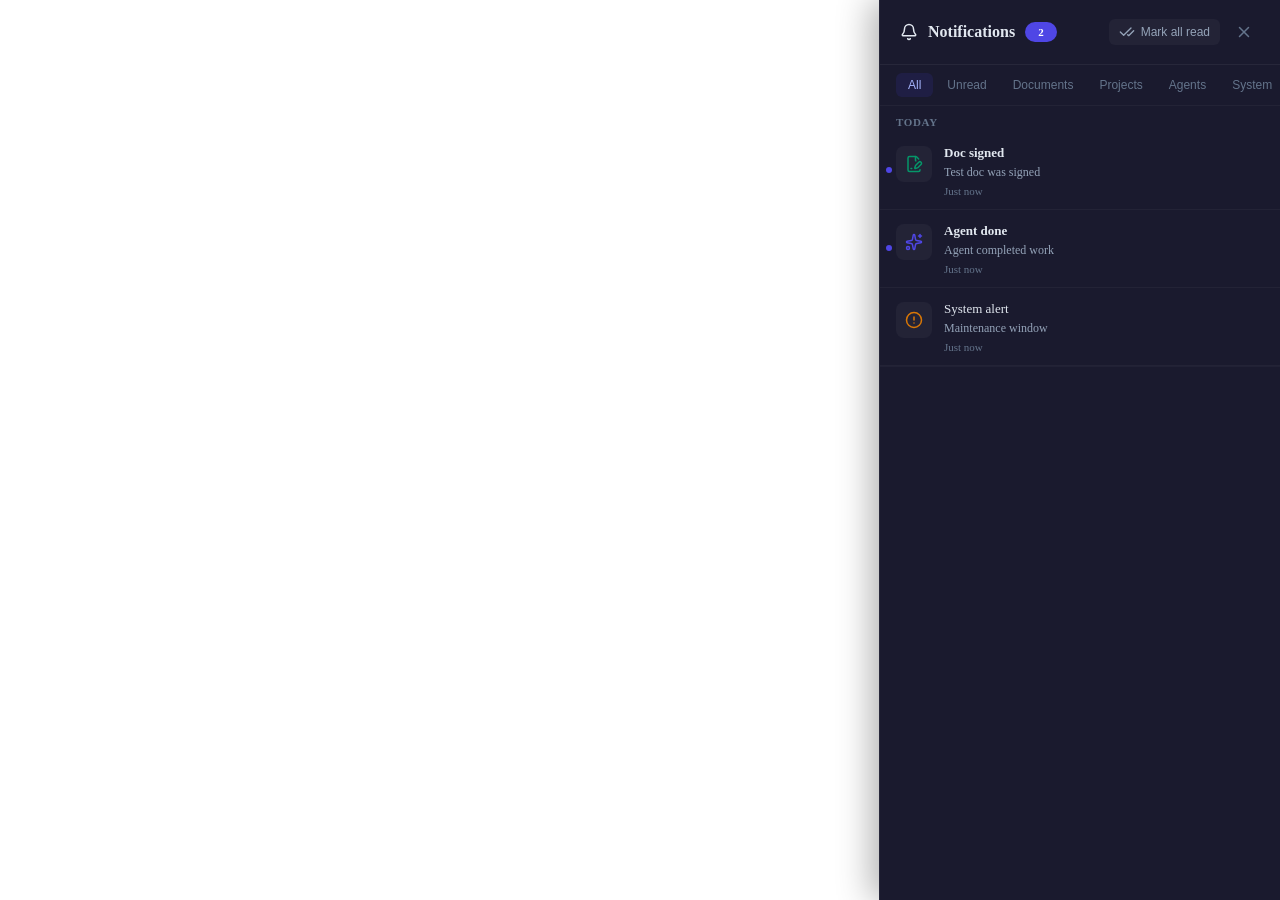
NotificationCenter › filters by Documents tab
Click the tab "Documents": x=1043, y=85 [1001,73,1085,97]
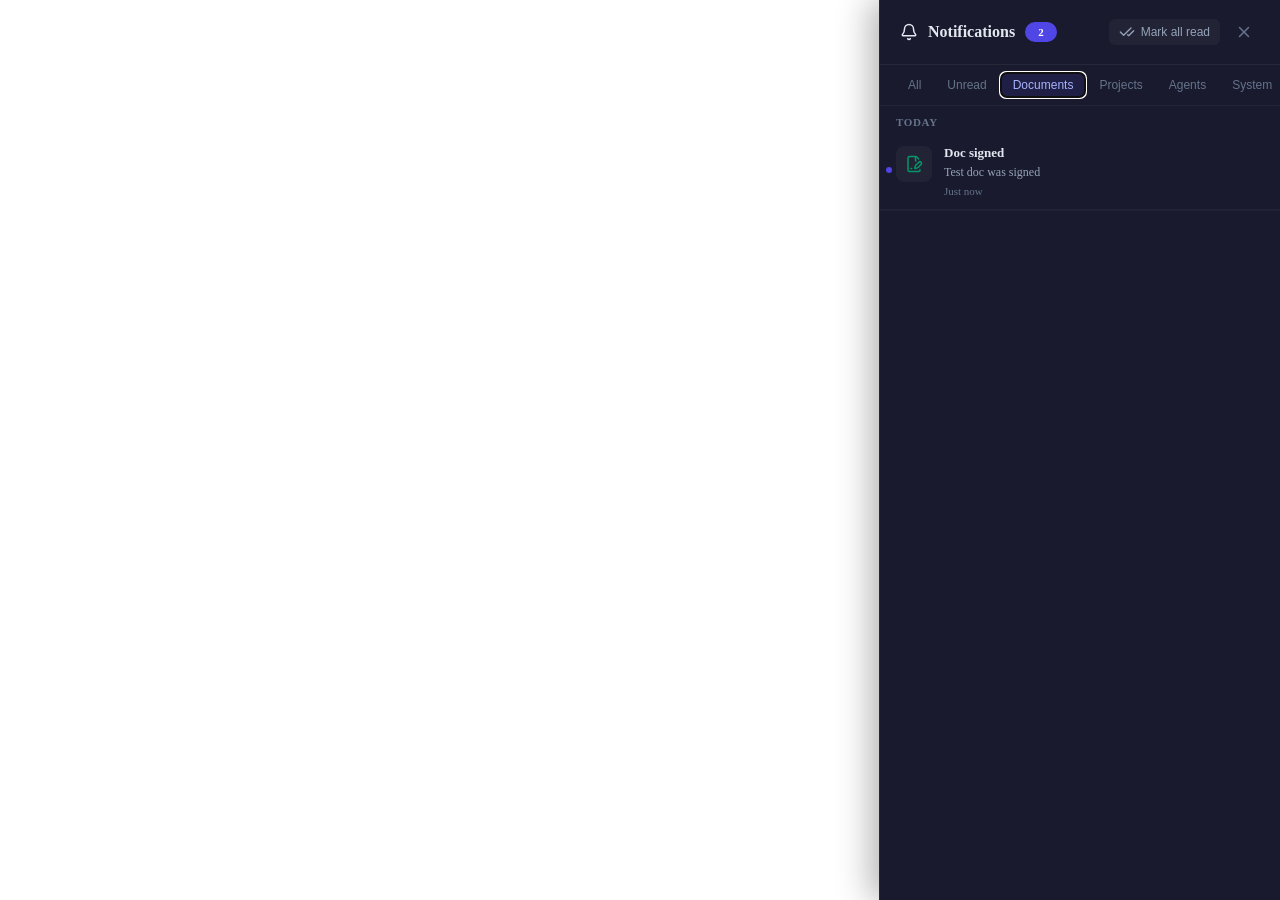
Expected: the text "Doc signed" is shown, [944,145,1004,160]
Expected: the button "Agent done" is gone
Expected: the button "System alert" is gone
